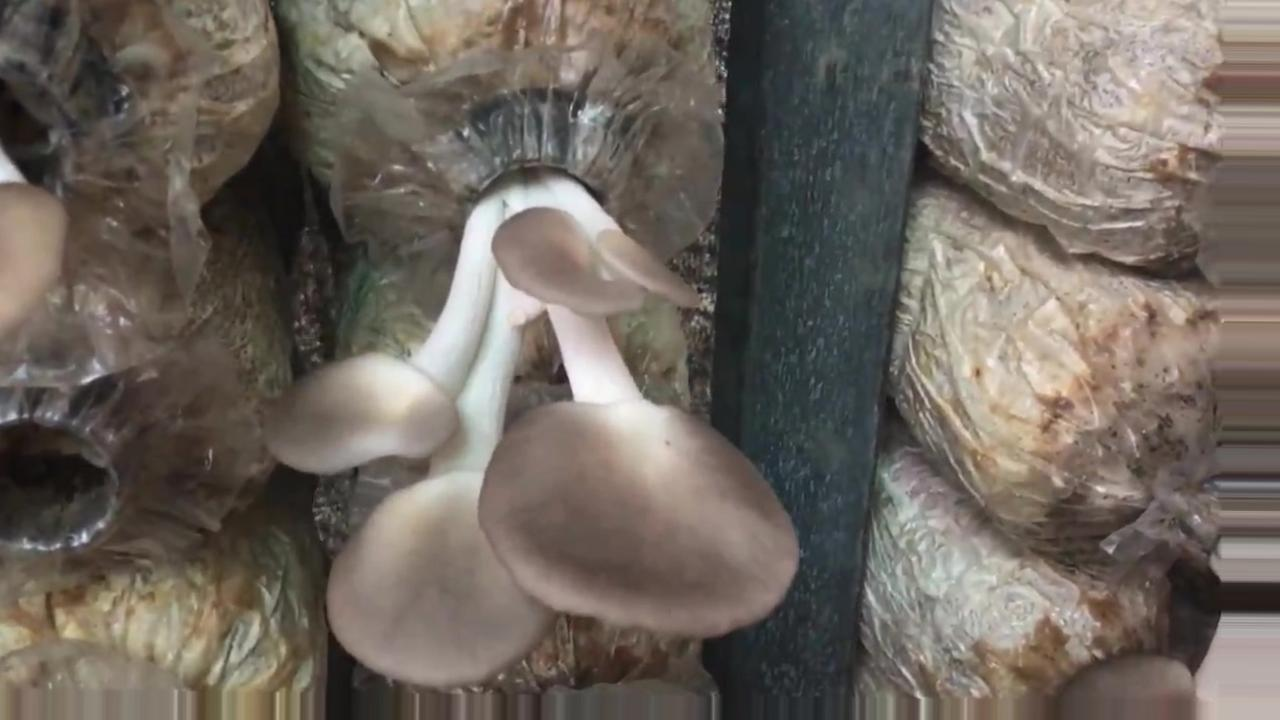nam: (267, 93, 798, 684)
